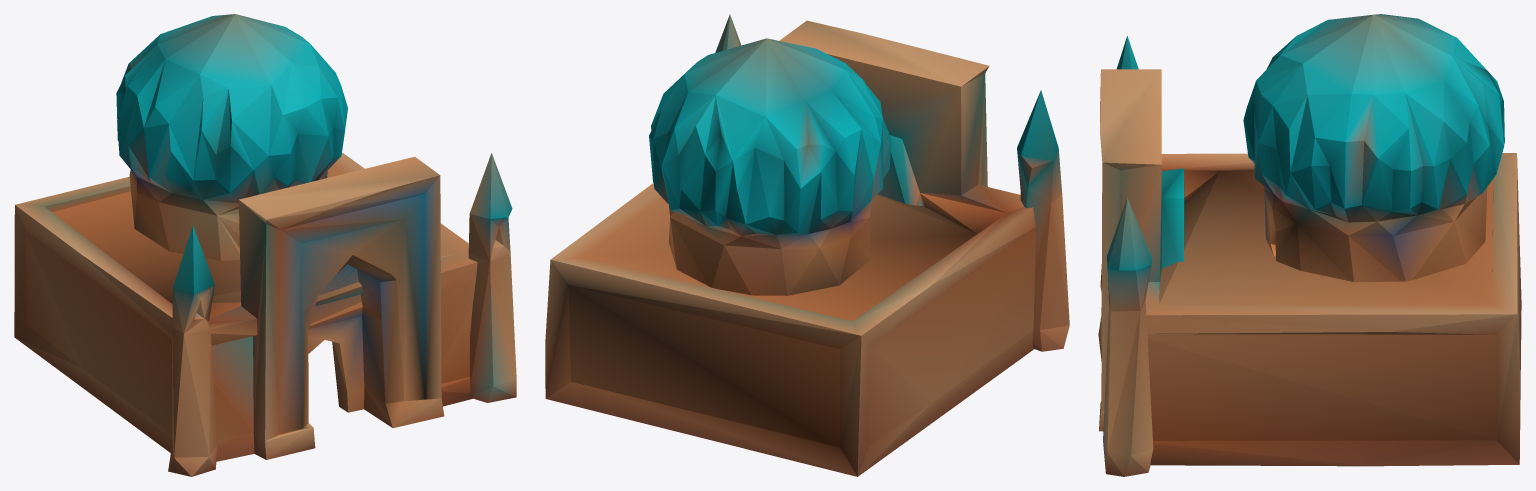
File: madrasa_lo.glb
The picture shows the model from 3 angles, left to right: view 1: azimuth 30°, elevation 25°; view 2: azimuth 150°, elevation 25°; view 3: azimuth 270°, elevation 25°; orthographic projection. The views are drawn at different scales.
Parts seen in each view (by area): view 1: geometry_0; view 2: geometry_0; view 3: geometry_0.
Boxes of the visible parts, left/top/right/bottom form: geometry_0: left=14, top=14, right=516, bottom=476; geometry_0: left=545, top=14, right=1069, bottom=476; geometry_0: left=1098, top=14, right=1521, bottom=476.
Size of the model in its own units: 0.9478 by 0.8798 by 0.9062.
